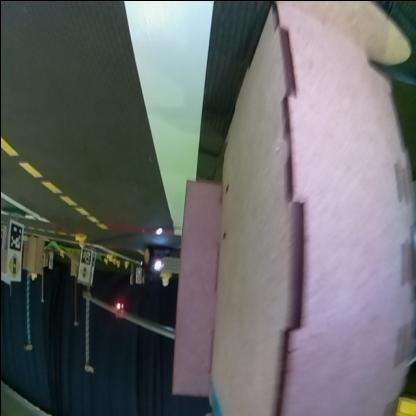Duckie: (74, 234, 85, 247), (158, 274, 169, 287)
Duckiebot: (142, 248, 178, 275)
QR code: (7, 222, 21, 252), (79, 250, 91, 264)
Signal sign: (8, 256, 20, 278), (76, 266, 88, 282)
Traffic light: (115, 304, 120, 316)
